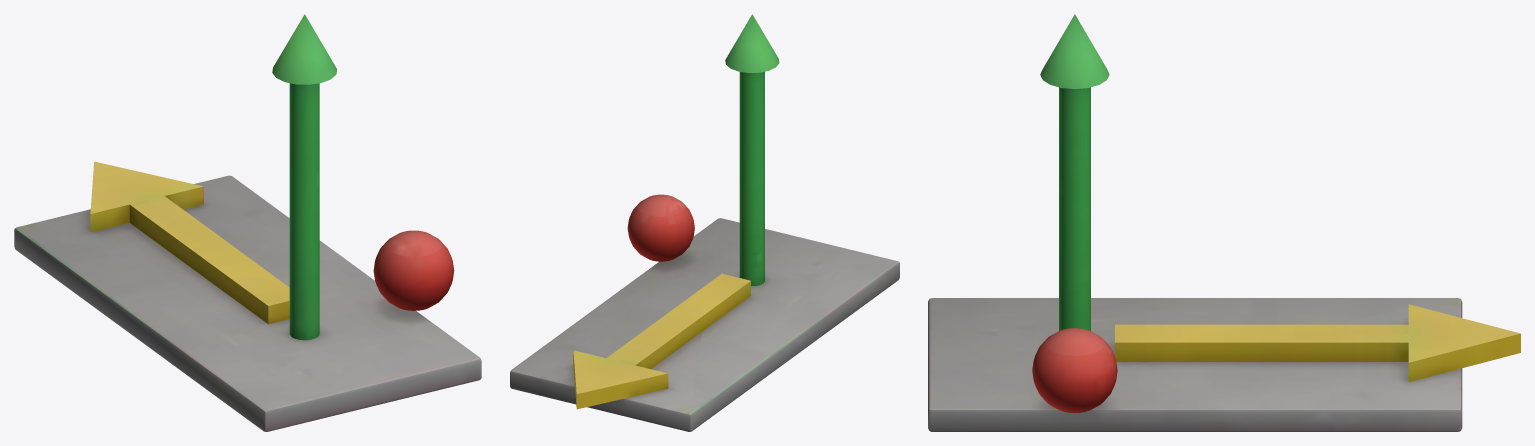
The model's file is orientation_probe.glb.
3 views of the same model, side by side, from view 1: azimuth 30°, elevation 25°; view 2: azimuth 150°, elevation 25°; view 3: azimuth 270°, elevation 25° (orthographic). The views are drawn at different scales.
Parts seen in each view (by area): view 1: probe; view 2: probe; view 3: probe.
Part boxes in pixels (x1,y1,x2,y2): probe: (14, 14, 481, 431); probe: (510, 14, 899, 431); probe: (928, 14, 1520, 431).
Bounding box in the file's own units: 1.16 × 1.5 × 2.22.
Materials: 1 (1 with a texture image).
